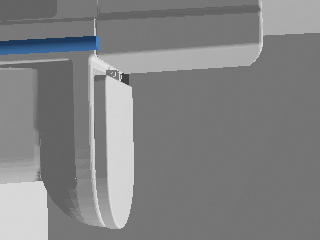lid_1: (89, 74, 133, 228)
